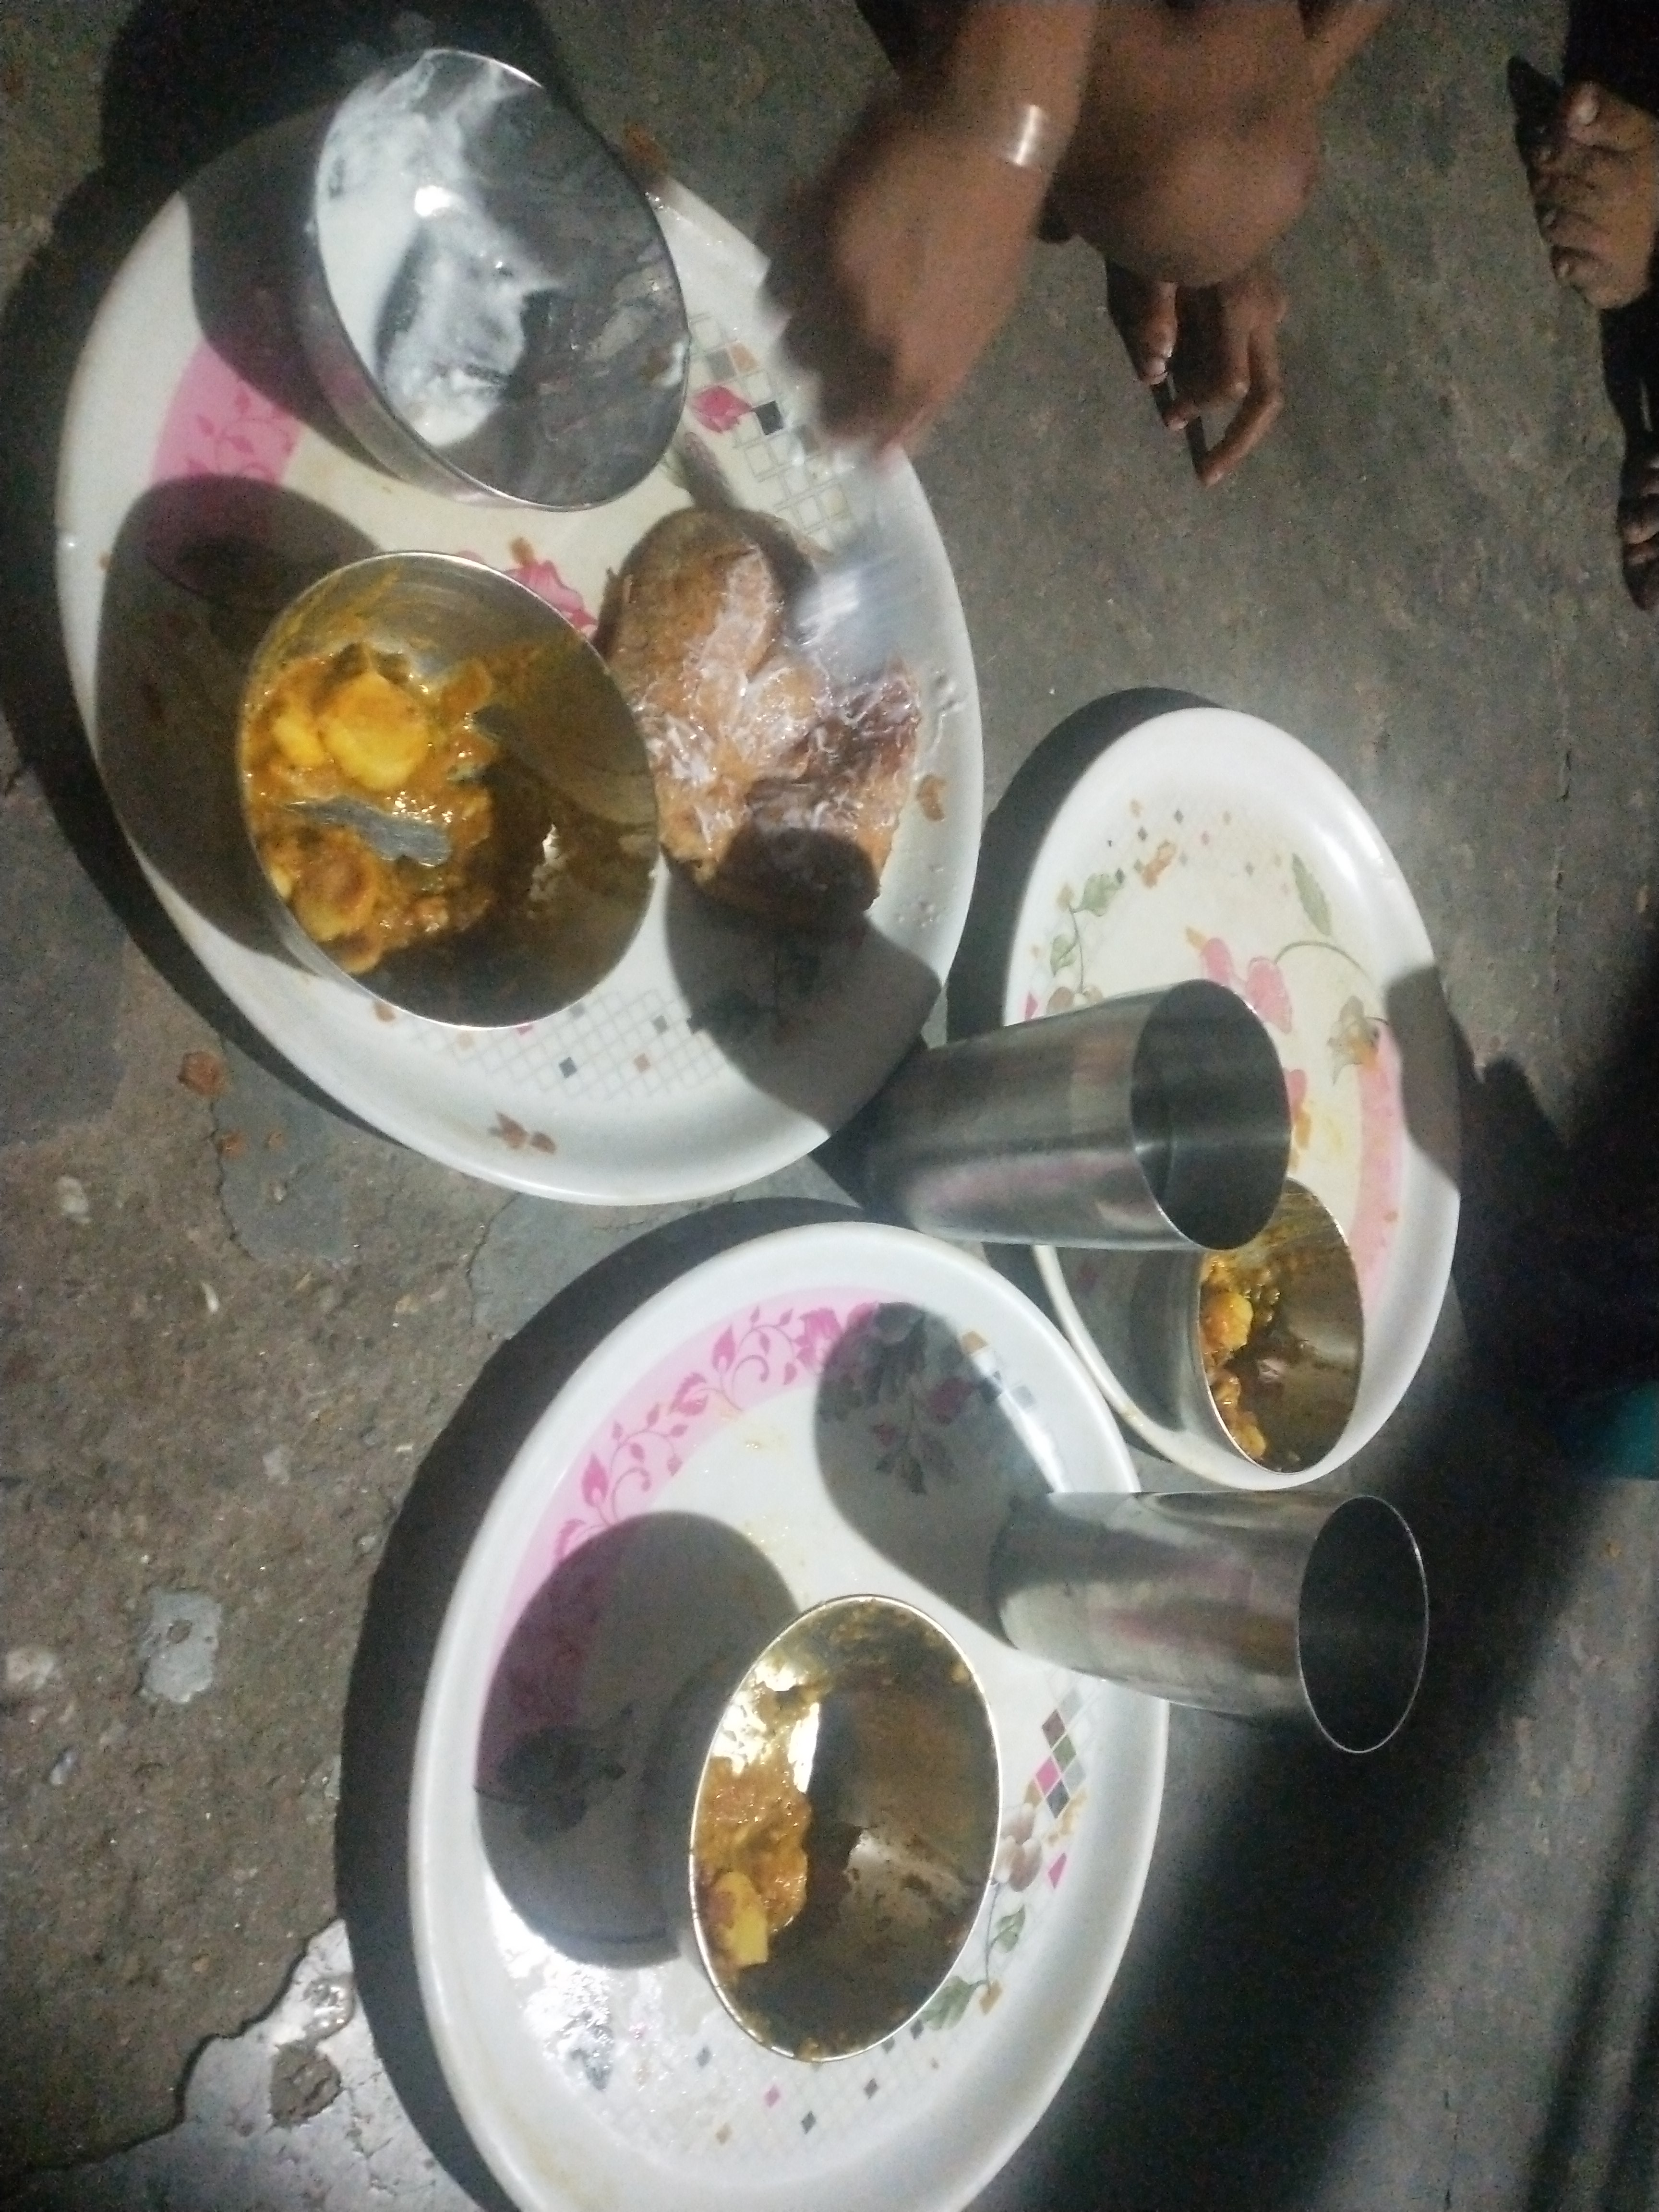food: (235, 26, 938, 1038), (687, 1724, 920, 2015), (1195, 1177, 1364, 1479)
